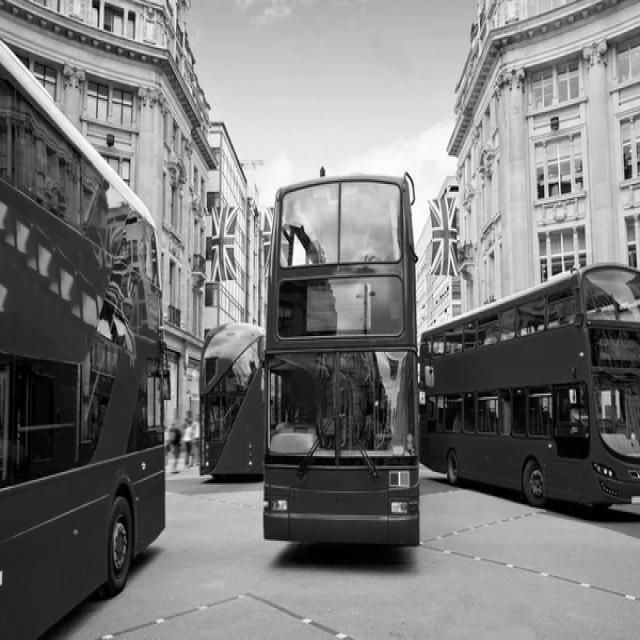Bus: (0, 41, 164, 639), (265, 173, 420, 545), (421, 264, 640, 506), (200, 323, 264, 479)
